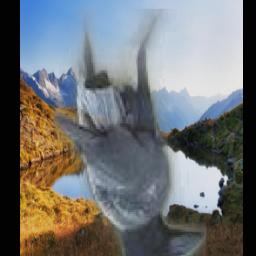Crow: (53, 10, 206, 256)
